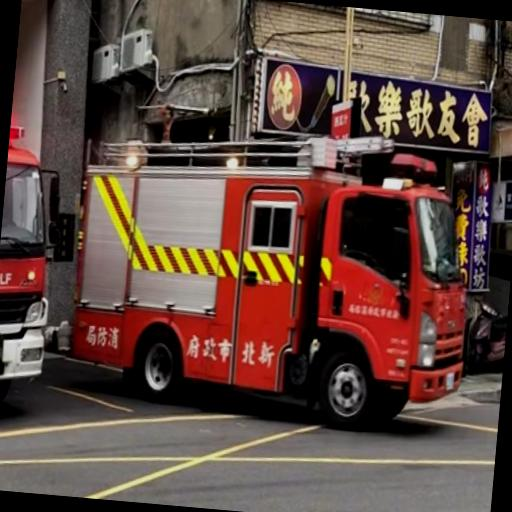fire truck: (49, 103, 466, 429)
